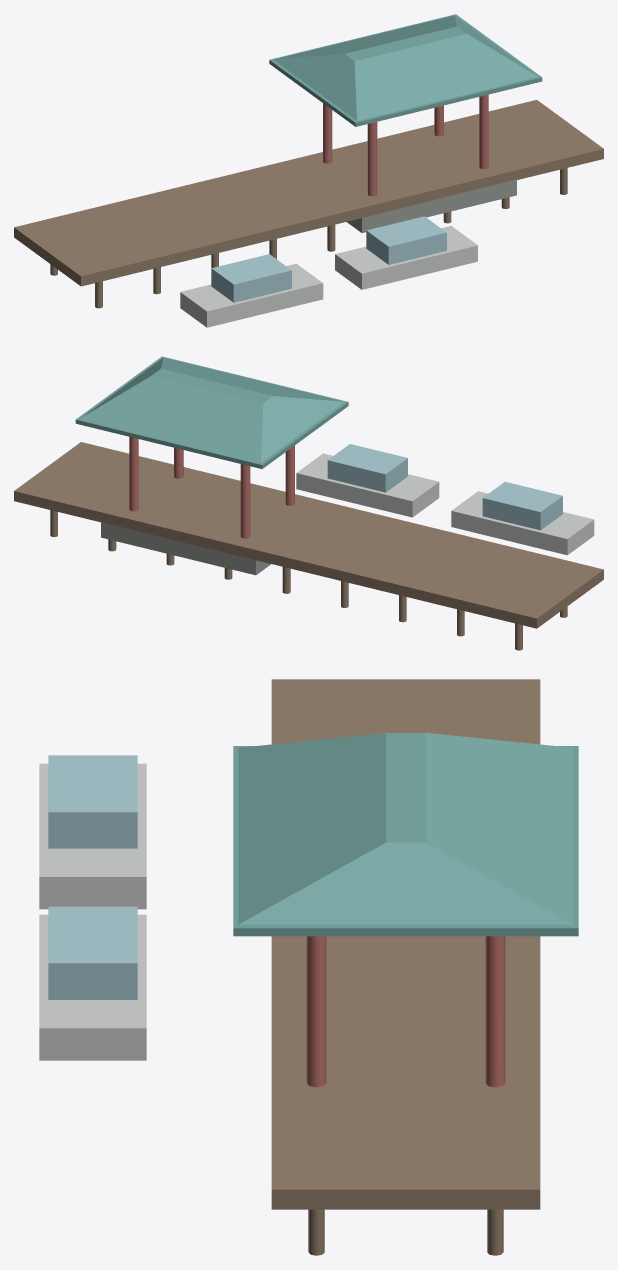
The model's file is pier.glb.
The picture shows the model from 3 angles, top to bottom: view 1: azimuth 30°, elevation 25°; view 2: azimuth 150°, elevation 25°; view 3: azimuth 270°, elevation 25°; orthographic projection. The views are drawn at different scales.
Visible parts, largest first — view 1: pier; view 2: pier; view 3: pier.
Boxes of the visible parts, bbox=[...] form: pier: bbox=[14, 14, 603, 327]; pier: bbox=[14, 356, 603, 650]; pier: bbox=[39, 679, 578, 1255].
Bounding box in the file's own units: 27 × 8.2 × 12.06.
